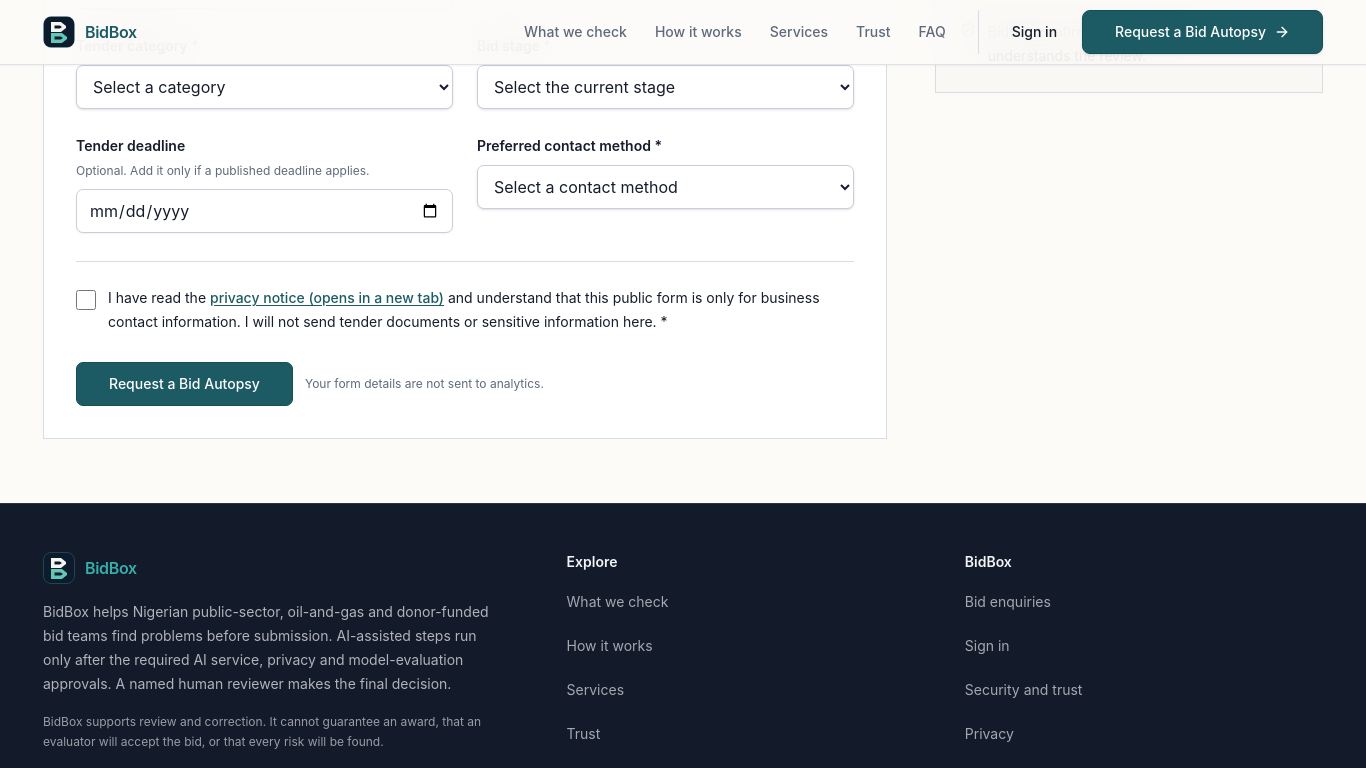
Scenario: Bid Autopsy request › shows an accessible summary and field errors without sending
This screenshot has width=1366, height=768.
(page scrolled)
Click the button "Request a Bid Autopsy" at (184, 384), box [76,362,293,406]
(page scrolled)
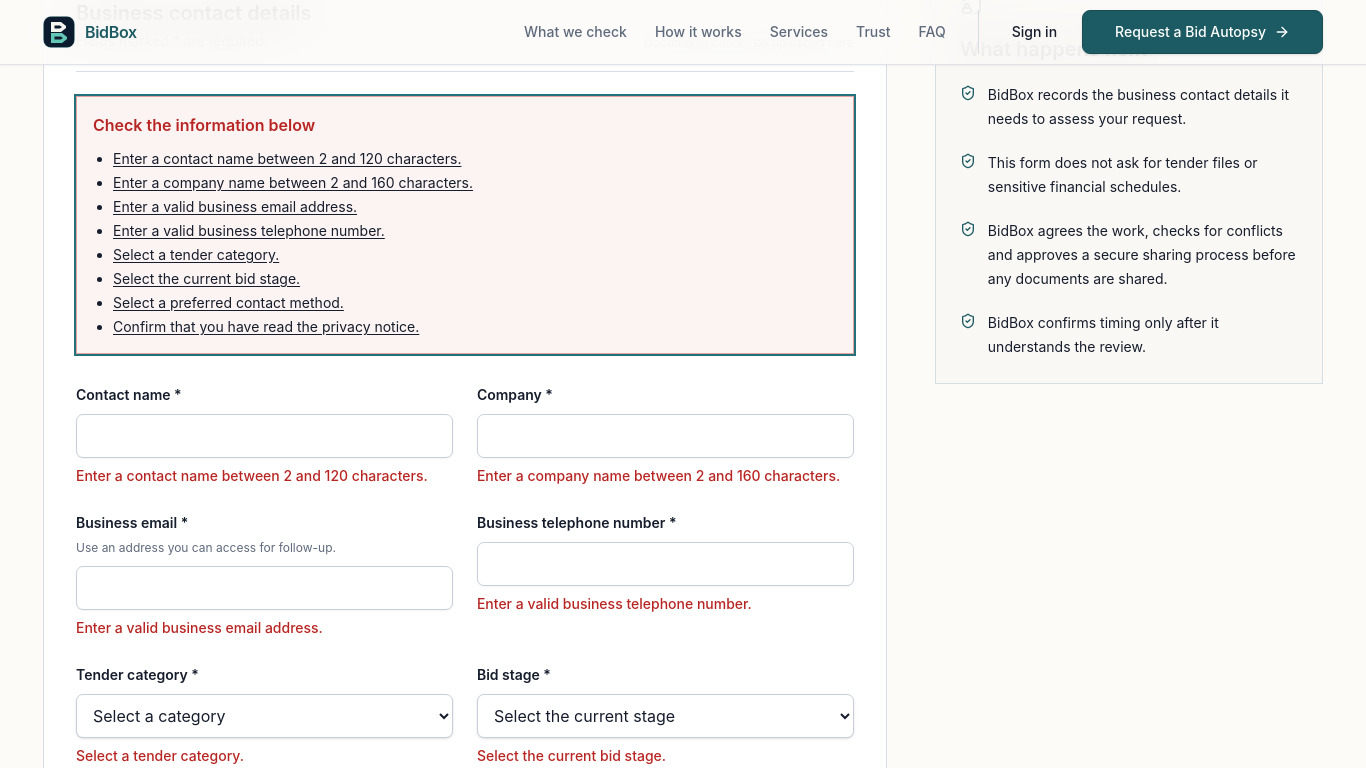
Result: the number of links "Enter a valid business email address." is 2 at [113,198,357,215]; [76,619,323,636]
